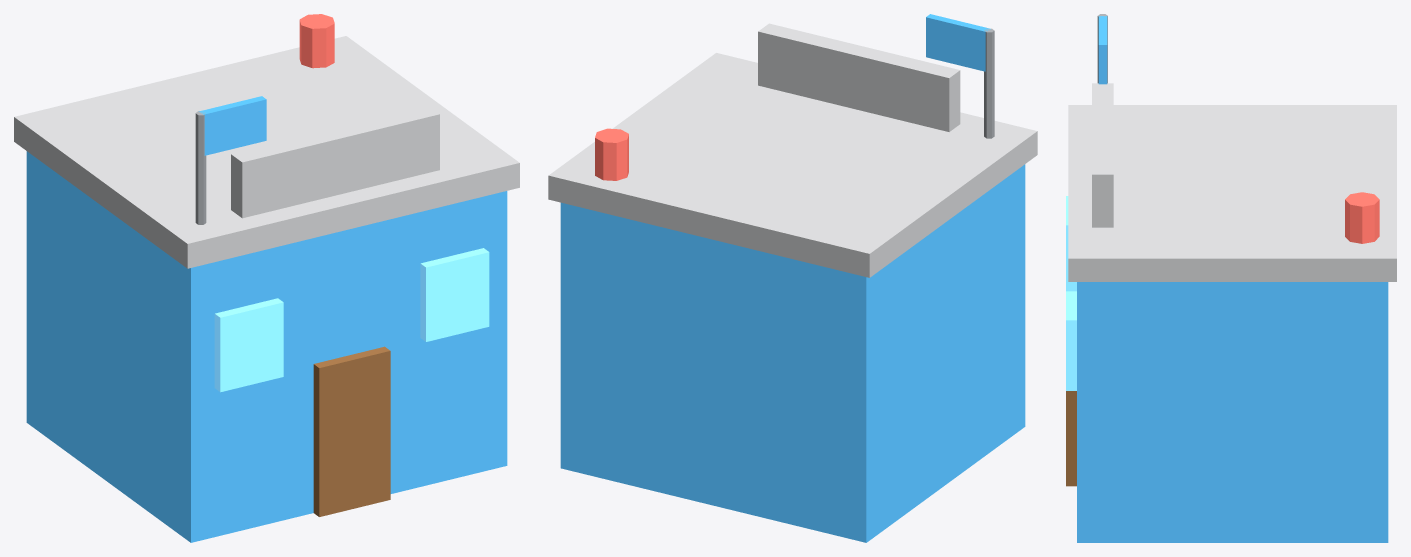
File: police.glb
The picture shows the model from 3 angles, left to right: view 1: azimuth 30°, elevation 25°; view 2: azimuth 150°, elevation 25°; view 3: azimuth 270°, elevation 25°; orthographic projection. The views are drawn at different scales.
Visible parts, largest first — view 1: police; view 2: police; view 3: police.
Part boxes in pixels (x1=…): police: x1=14, y1=14, x2=519, y2=542; police: x1=548, y1=14, x2=1037, y2=542; police: x1=1066, y1=14, x2=1396, y2=542.
Bounding box in the file's own units: 0.84 × 1 × 0.765.
